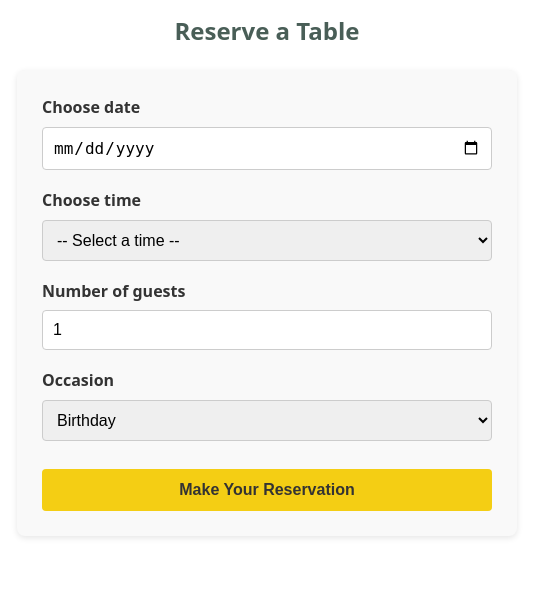
Test: shows validation errors when submitted empty
This screenshot has width=535, height=609.
Click the button "Make Your Reservation".
click(267, 490)  # box [42,469,492,511]
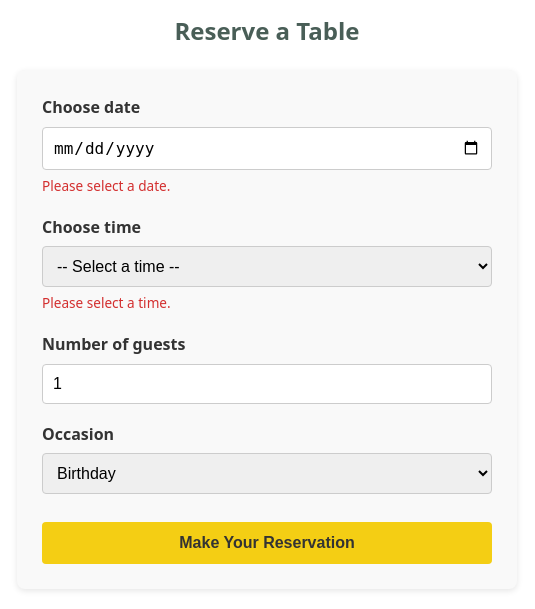
Now the text "Please select a date." is shown, box [42,176,170,195]
Now the text "Please select a time." is shown, box [42,293,171,312]
